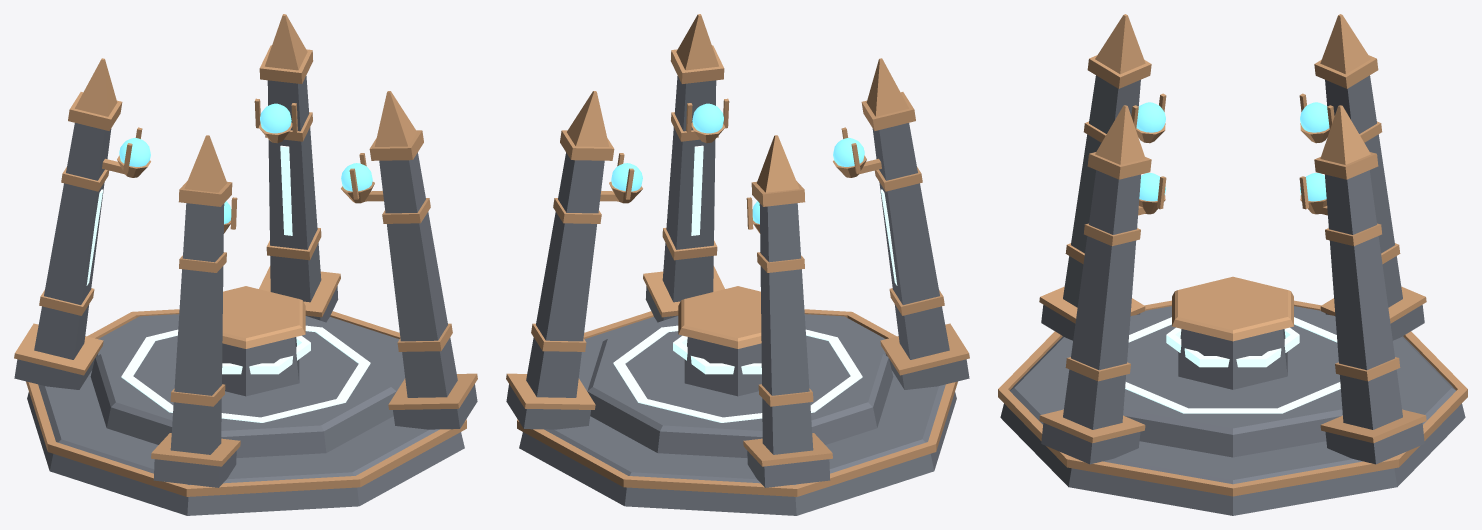
File: DvergerSeekingTable.fbx
3 renders of one model, left to right at view 1: azimuth 30°, elevation 25°; view 2: azimuth 150°, elevation 25°; view 3: azimuth 270°, elevation 25°, orthographic. The views are drawn at different scales.
Visible parts, largest first — view 1: SeekingTable, core1, core2, core4; view 2: SeekingTable, core4, core3, core1; view 3: SeekingTable, core2, core3, core1, core4.
Boxes of the visible parts, left/top/right/bottom form: SeekingTable: left=14, top=14, right=477, bottom=515; core1: left=260, top=103, right=291, bottom=133; core2: left=119, top=138, right=150, bottom=166; core4: left=341, top=163, right=372, bottom=191; SeekingTable: left=506, top=14, right=969, bottom=515; core4: left=692, top=103, right=723, bottom=133; core3: left=833, top=138, right=864, bottom=166; core1: left=611, top=163, right=642, bottom=191; SeekingTable: left=998, top=14, right=1467, bottom=515; core2: left=1300, top=102, right=1329, bottom=132; core3: left=1136, top=102, right=1165, bottom=132; core1: left=1300, top=173, right=1326, bottom=201; core4: left=1139, top=173, right=1165, bottom=201.
Size of the model in its own units: 313 by 263 by 313.
